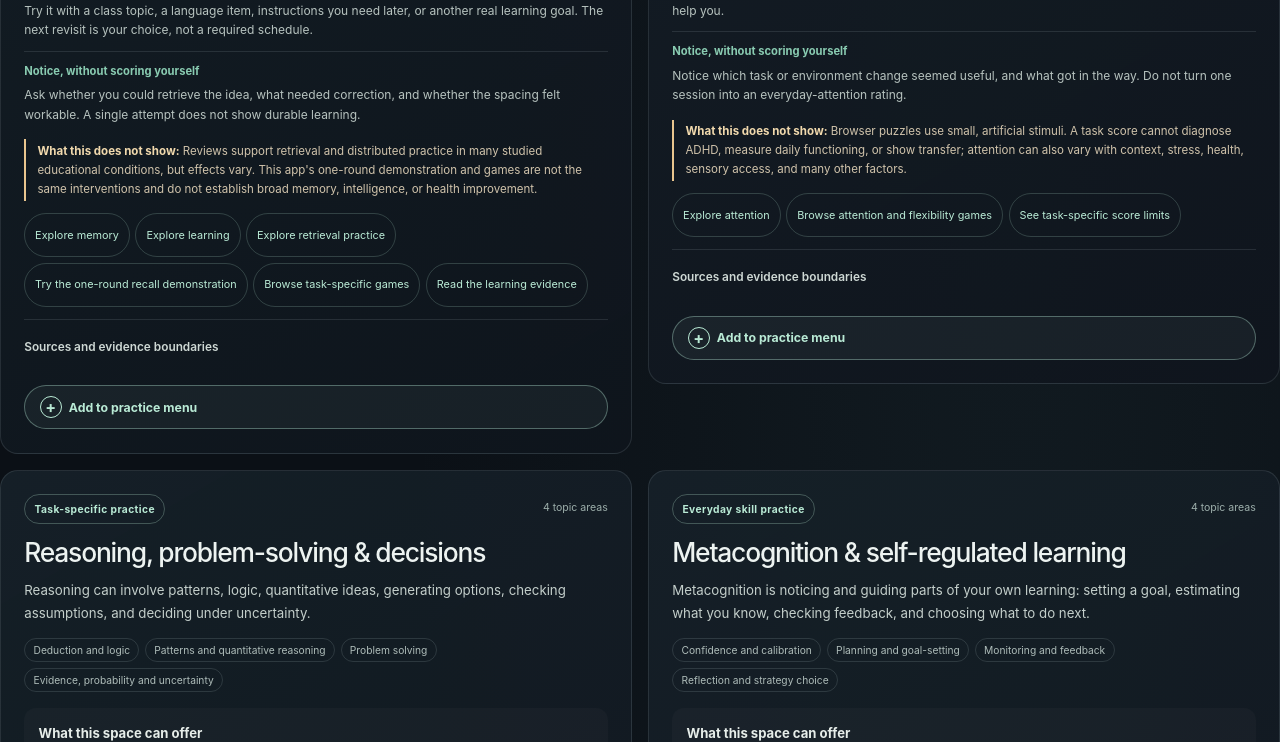
Test case: DevelopmentAtlas › adds, removes, and limits optional selections without persisting them
(page scrolled)
Click the button with aria-label "add memory & learning to the practice menu" at (133, 407), box [24,385,608,429]
(page scrolled)
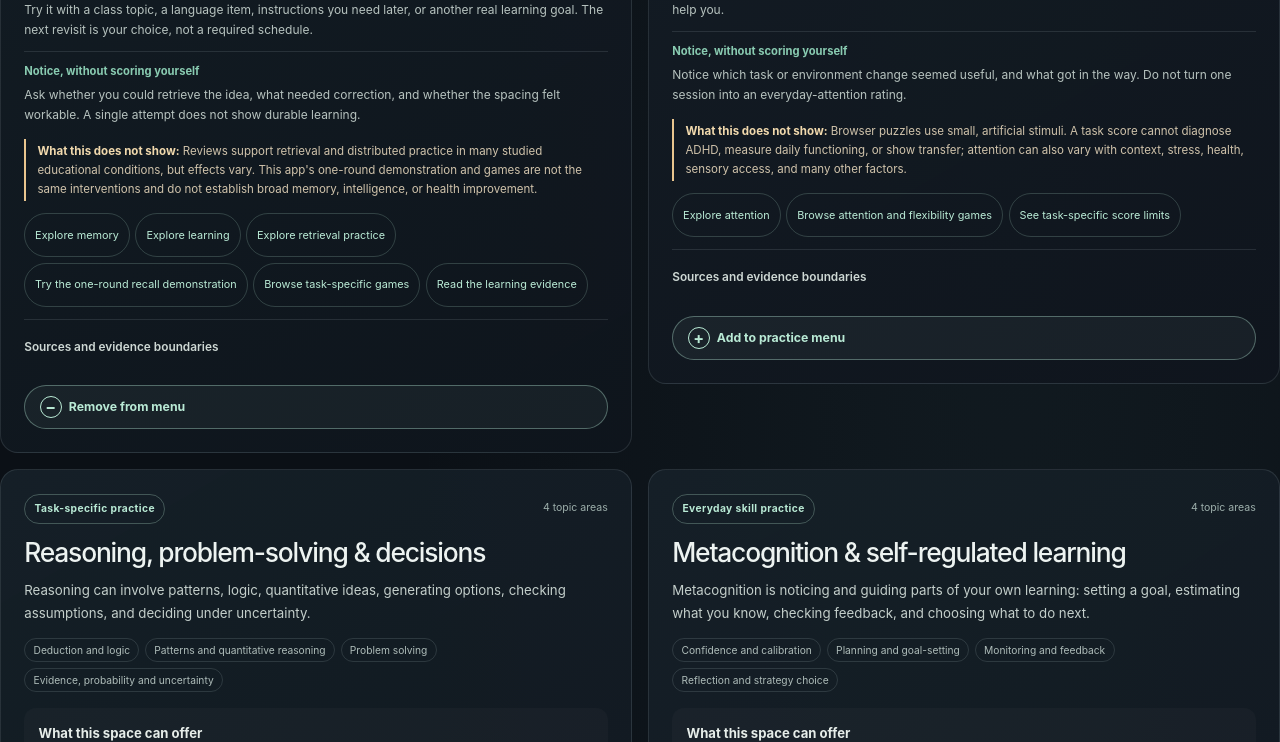
expect the button with aria-label "remove memory & learning from the practice menu" is pressed: met, box [24,385,608,429]
Click the button with aria-label "add attention & executive skills to the practice menu" at (781, 337), box [672,316,1256,360]
(page scrolled)
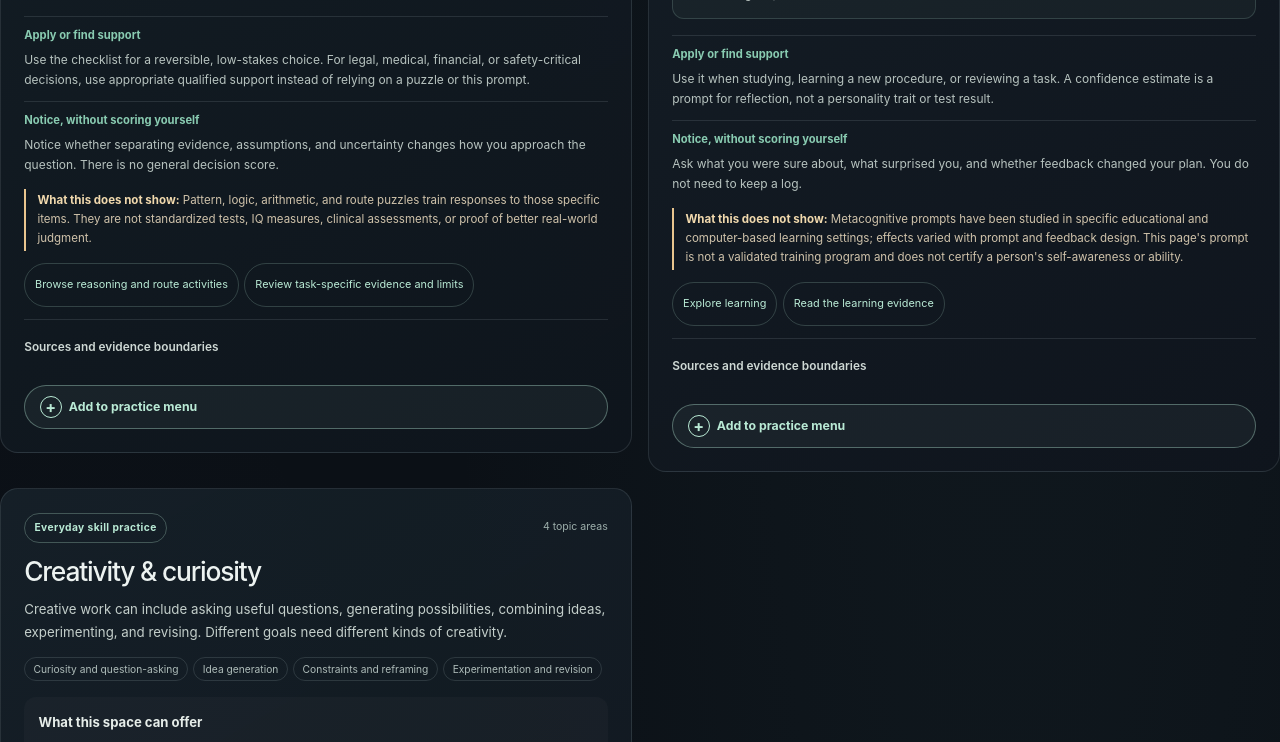
Click the button named "add reasoning, problem-solving & decisions to the practice menu" at (133, 407), box [24,385,608,429]
(page scrolled)
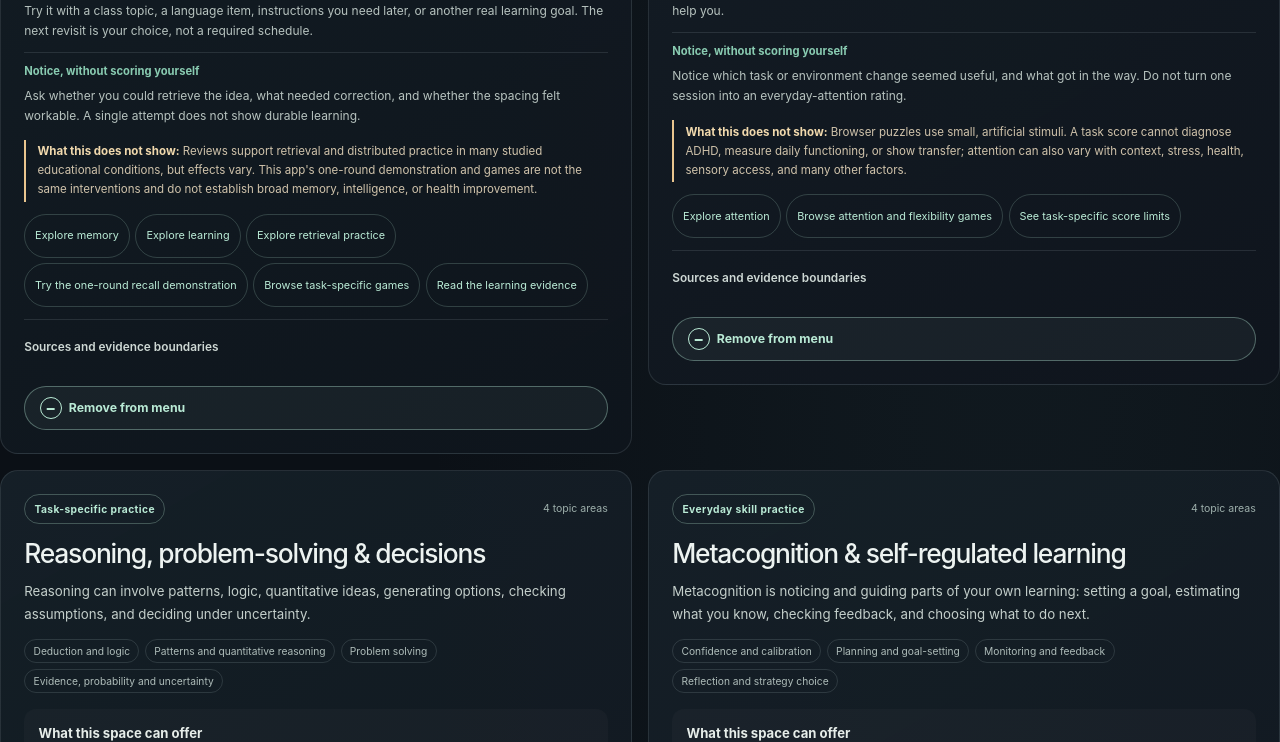
Click the button with aria-label "remove memory & learning from the practice menu" at (127, 408), box [24,386,608,430]
(page scrolled)
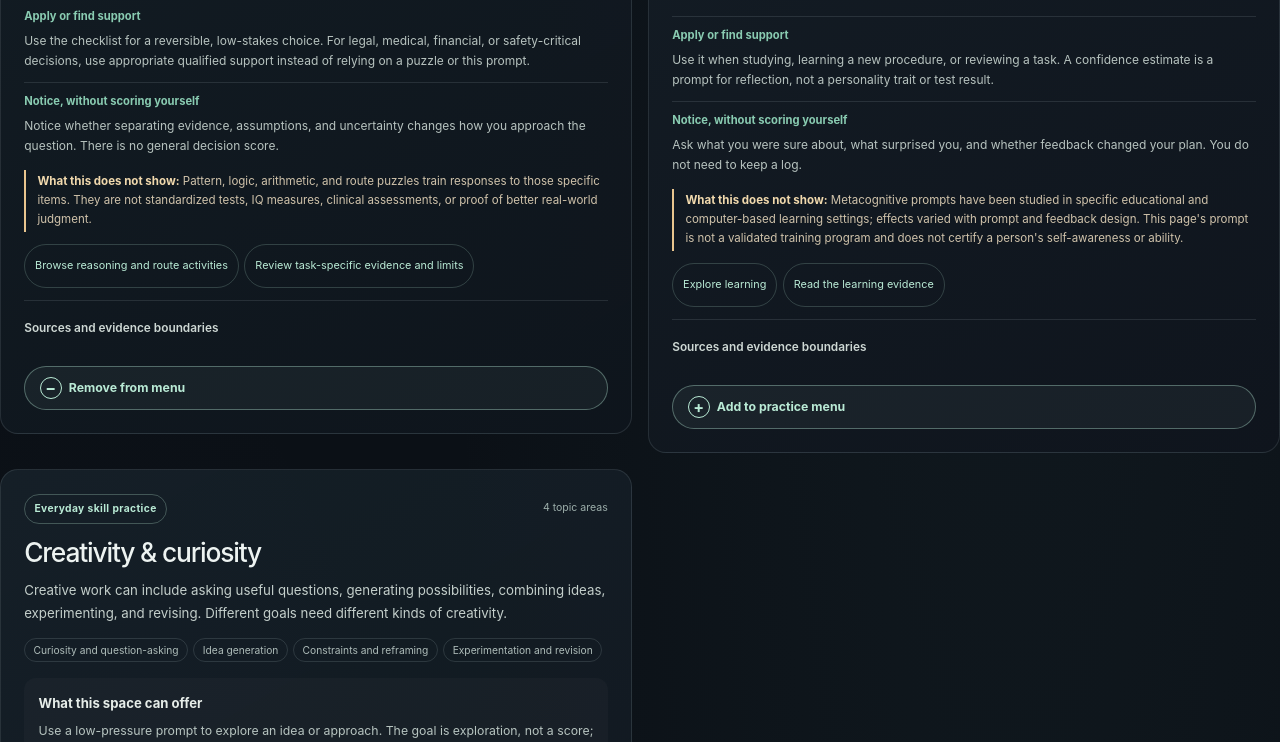
expect the button named "add metacognition & self-regulated learning to the practice menu" is enabled: met, box [672,385,1256,429]
